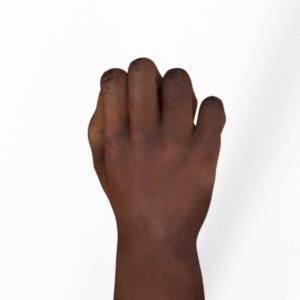rock: (88, 59, 226, 300)
